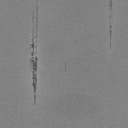slag inclusion: (30, 4, 38, 50), (30, 57, 38, 93), (109, 24, 112, 41), (109, 0, 112, 12), (34, 94, 36, 106), (64, 62, 66, 72)
